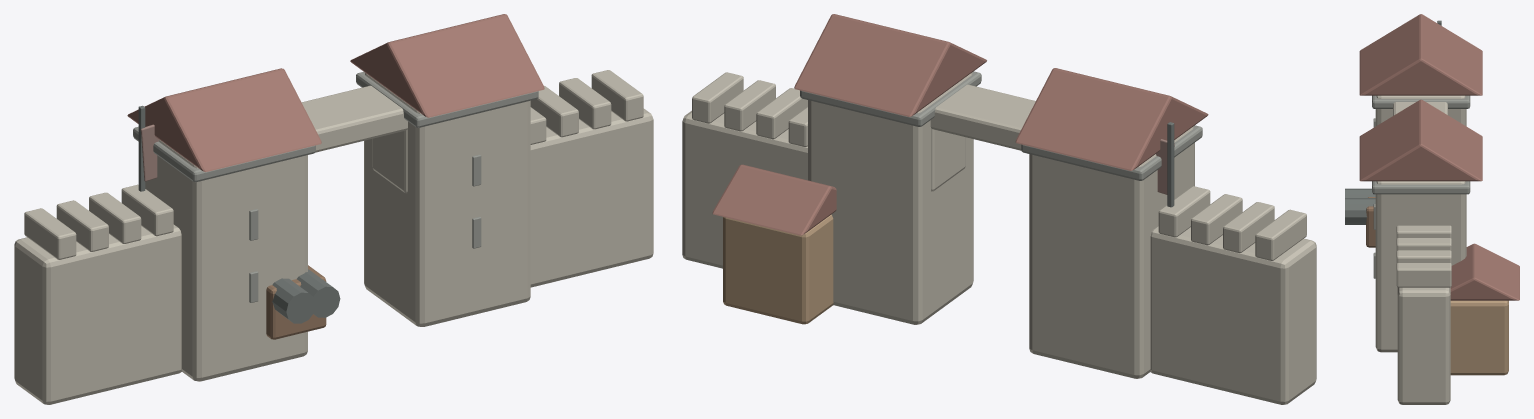
Rendered from zastava_core.glb.
3 views of the same model, side by side, from view 1: azimuth 30°, elevation 25°; view 2: azimuth 150°, elevation 25°; view 3: azimuth 270°, elevation 25° (orthographic). The views are drawn at different scales.
Parts seen in each view (by area): view 1: GateTower_2, CurtainWall, GateTower_1, CurtainWall.001, TowerRoof_2, TowerRoof_1, ArchTop, Merlon, StoneCap_0, ArchRight, StoneCap_1, Merlon.001 (+9 smaller); view 2: GateTower_2, GateTower_1, CurtainWall, TowerRoof_2, TowerRoof_1, TollBooth, CurtainWall.001, TollBoothRoof, ArchTop, Merlon, StoneCap_0, ArchRight (+9 smaller); view 3: TowerRoof_2, TowerRoof_1, GateTower_2, CurtainWall.001, TollBooth, TollBoothRoof, Merlon.007, StoneCap_1, GateTower_1, Merlon.004, Merlon.005, Merlon.006 (+5 smaller).
Boxes of the visible parts, x1,y1,x2,y2 form: GateTower_2: [364, 73, 530, 326]; CurtainWall: [14, 224, 181, 404]; GateTower_1: [145, 140, 307, 381]; CurtainWall.001: [530, 108, 653, 287]; TowerRoof_2: [350, 14, 544, 117]; TowerRoof_1: [127, 68, 321, 172]; ArchTop: [301, 85, 407, 152]; Merlon: [24, 208, 76, 259]; StoneCap_0: [133, 126, 315, 182]; ArchRight: [372, 129, 407, 193]; StoneCap_1: [356, 72, 538, 127]; Merlon.001: [56, 200, 108, 251]; GateTower_2: [808, 72, 973, 324]; GateTower_1: [1029, 126, 1194, 378]; CurtainWall: [1150, 226, 1316, 404]; TowerRoof_2: [794, 14, 986, 116]; TowerRoof_1: [1015, 68, 1208, 170]; TollBooth: [723, 214, 833, 324]; CurtainWall.001: [682, 110, 807, 268]; TollBoothRoof: [712, 164, 836, 235]; ArchTop: [930, 84, 1035, 150]; Merlon: [1255, 209, 1306, 260]; StoneCap_0: [1021, 125, 1202, 180]; ArchRight: [931, 128, 965, 191]; TowerRoof_2: [1359, 99, 1482, 181]; TowerRoof_1: [1359, 14, 1482, 95]; GateTower_2: [1375, 181, 1466, 352]; CurtainWall.001: [1397, 287, 1450, 404]; TollBooth: [1450, 300, 1508, 375]; TollBoothRoof: [1450, 243, 1519, 300]; Merlon.007: [1396, 263, 1451, 287]; StoneCap_1: [1372, 181, 1470, 194]; GateTower_1: [1375, 95, 1466, 126]; Merlon.004: [1396, 225, 1451, 238]; Merlon.005: [1396, 238, 1451, 251]; Merlon.006: [1396, 250, 1451, 263].
Size of the model in its own units: 9.04 by 3.79 by 2.85.
